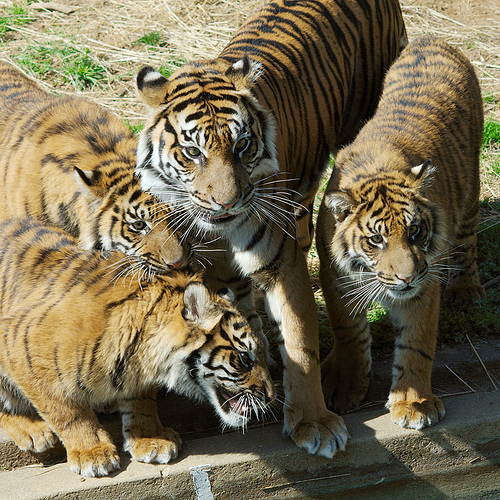Tigre: (132, 7, 372, 449), (3, 217, 275, 473), (326, 36, 484, 473)
